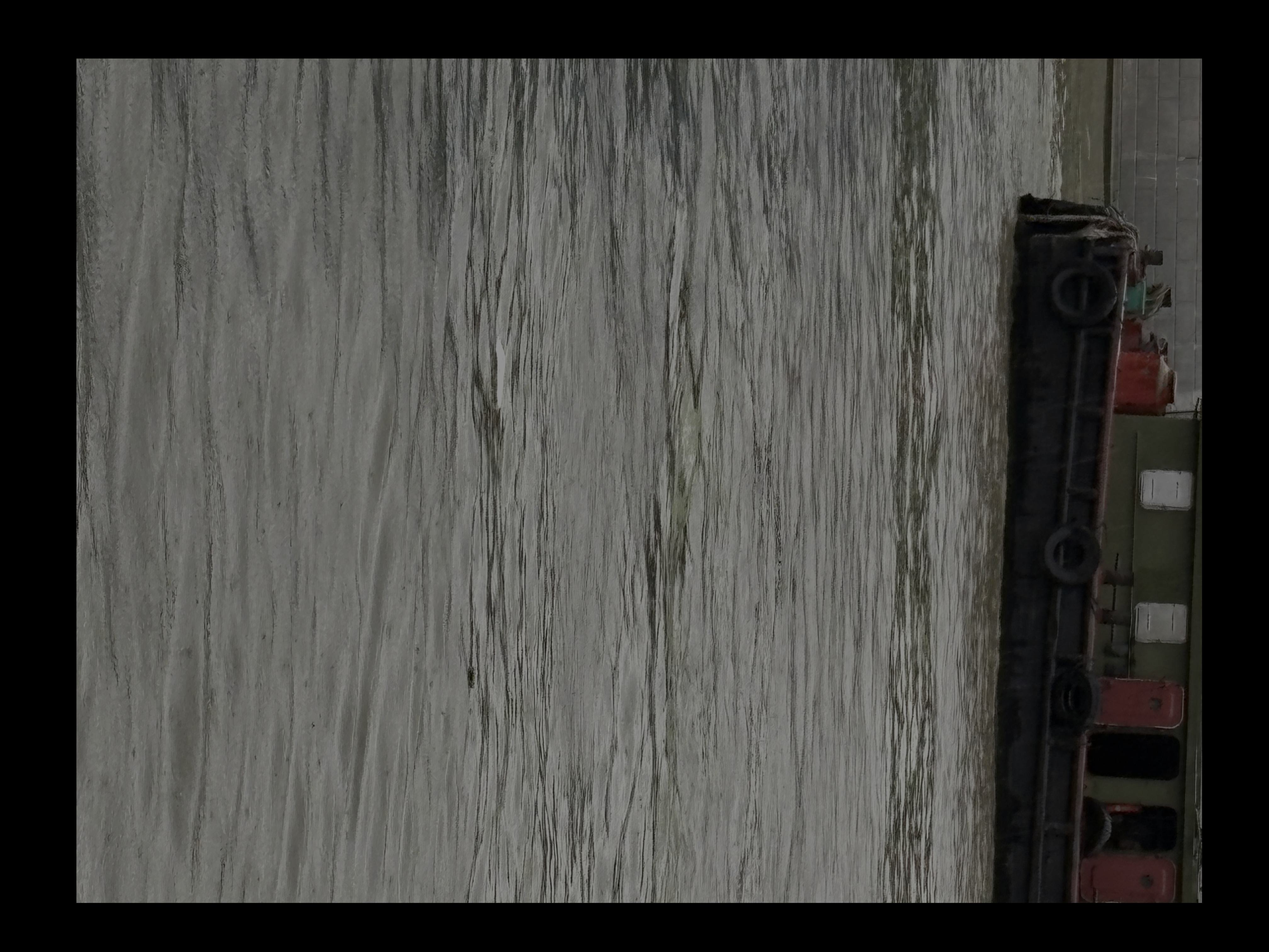Plastic wastes: (892, 325, 909, 394), (867, 646, 877, 673)
